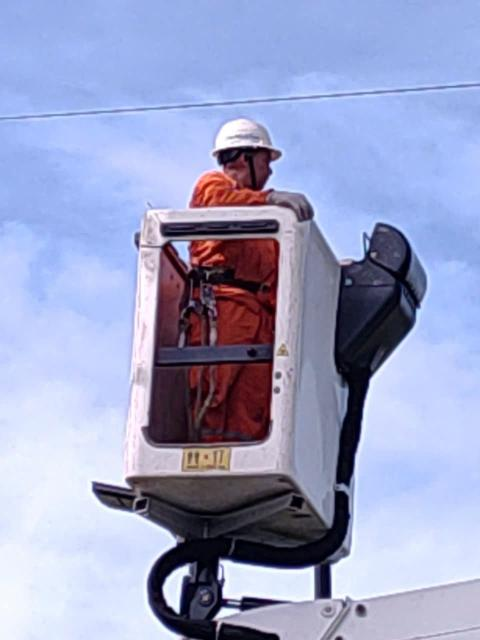gloves: (263, 186, 319, 221)
harness: (178, 253, 287, 311)
helmet: (207, 115, 291, 171)
